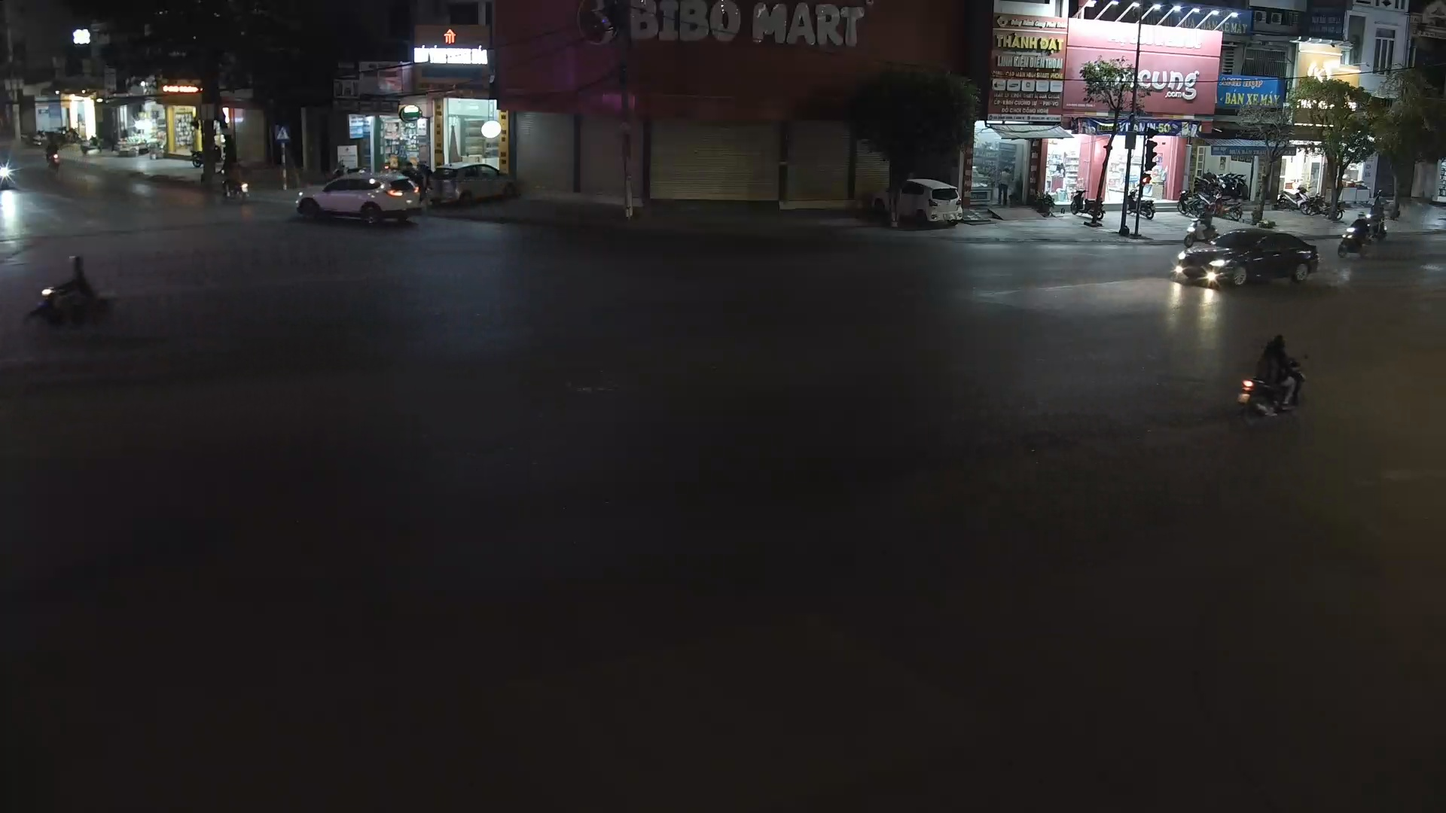car: (1175, 222, 1323, 291), (290, 171, 420, 230)
motorbike: (22, 253, 118, 336), (1234, 331, 1310, 425)
truck: (844, 63, 978, 229)
